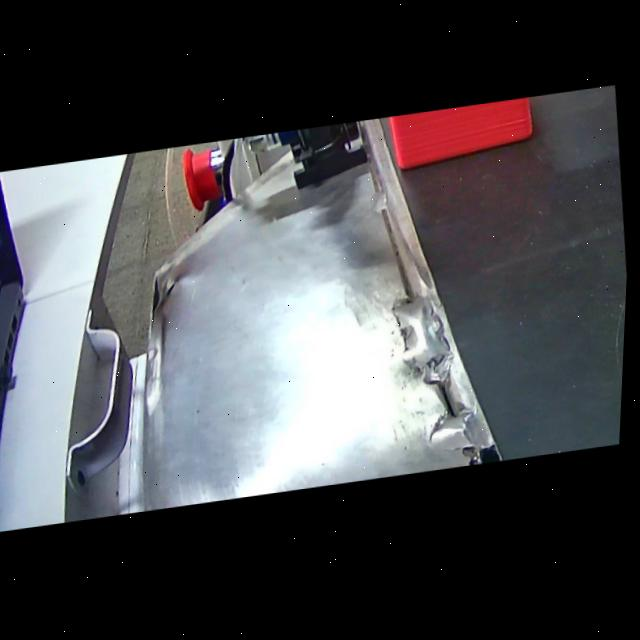redBox: (376, 100, 546, 183)
